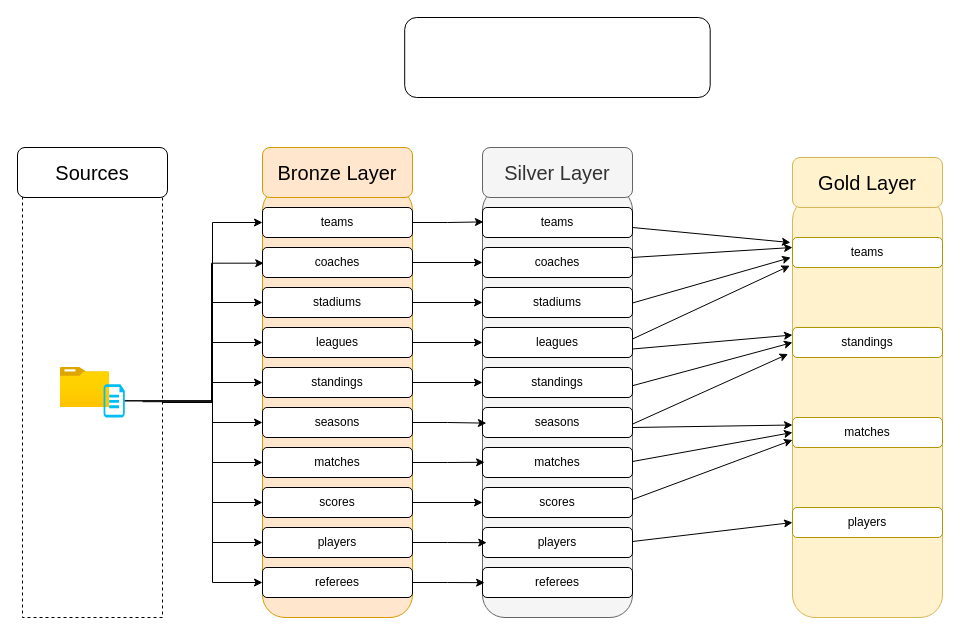
Some shapes in this 960 by 635 pixel diagram are drawn without their labels. The shapes that lost their labels are listed below. From the top down, each one's centre as x and y in pixels, then its label:
the point at 557,57: DATA Flow
the point at 84,387: CSV files
